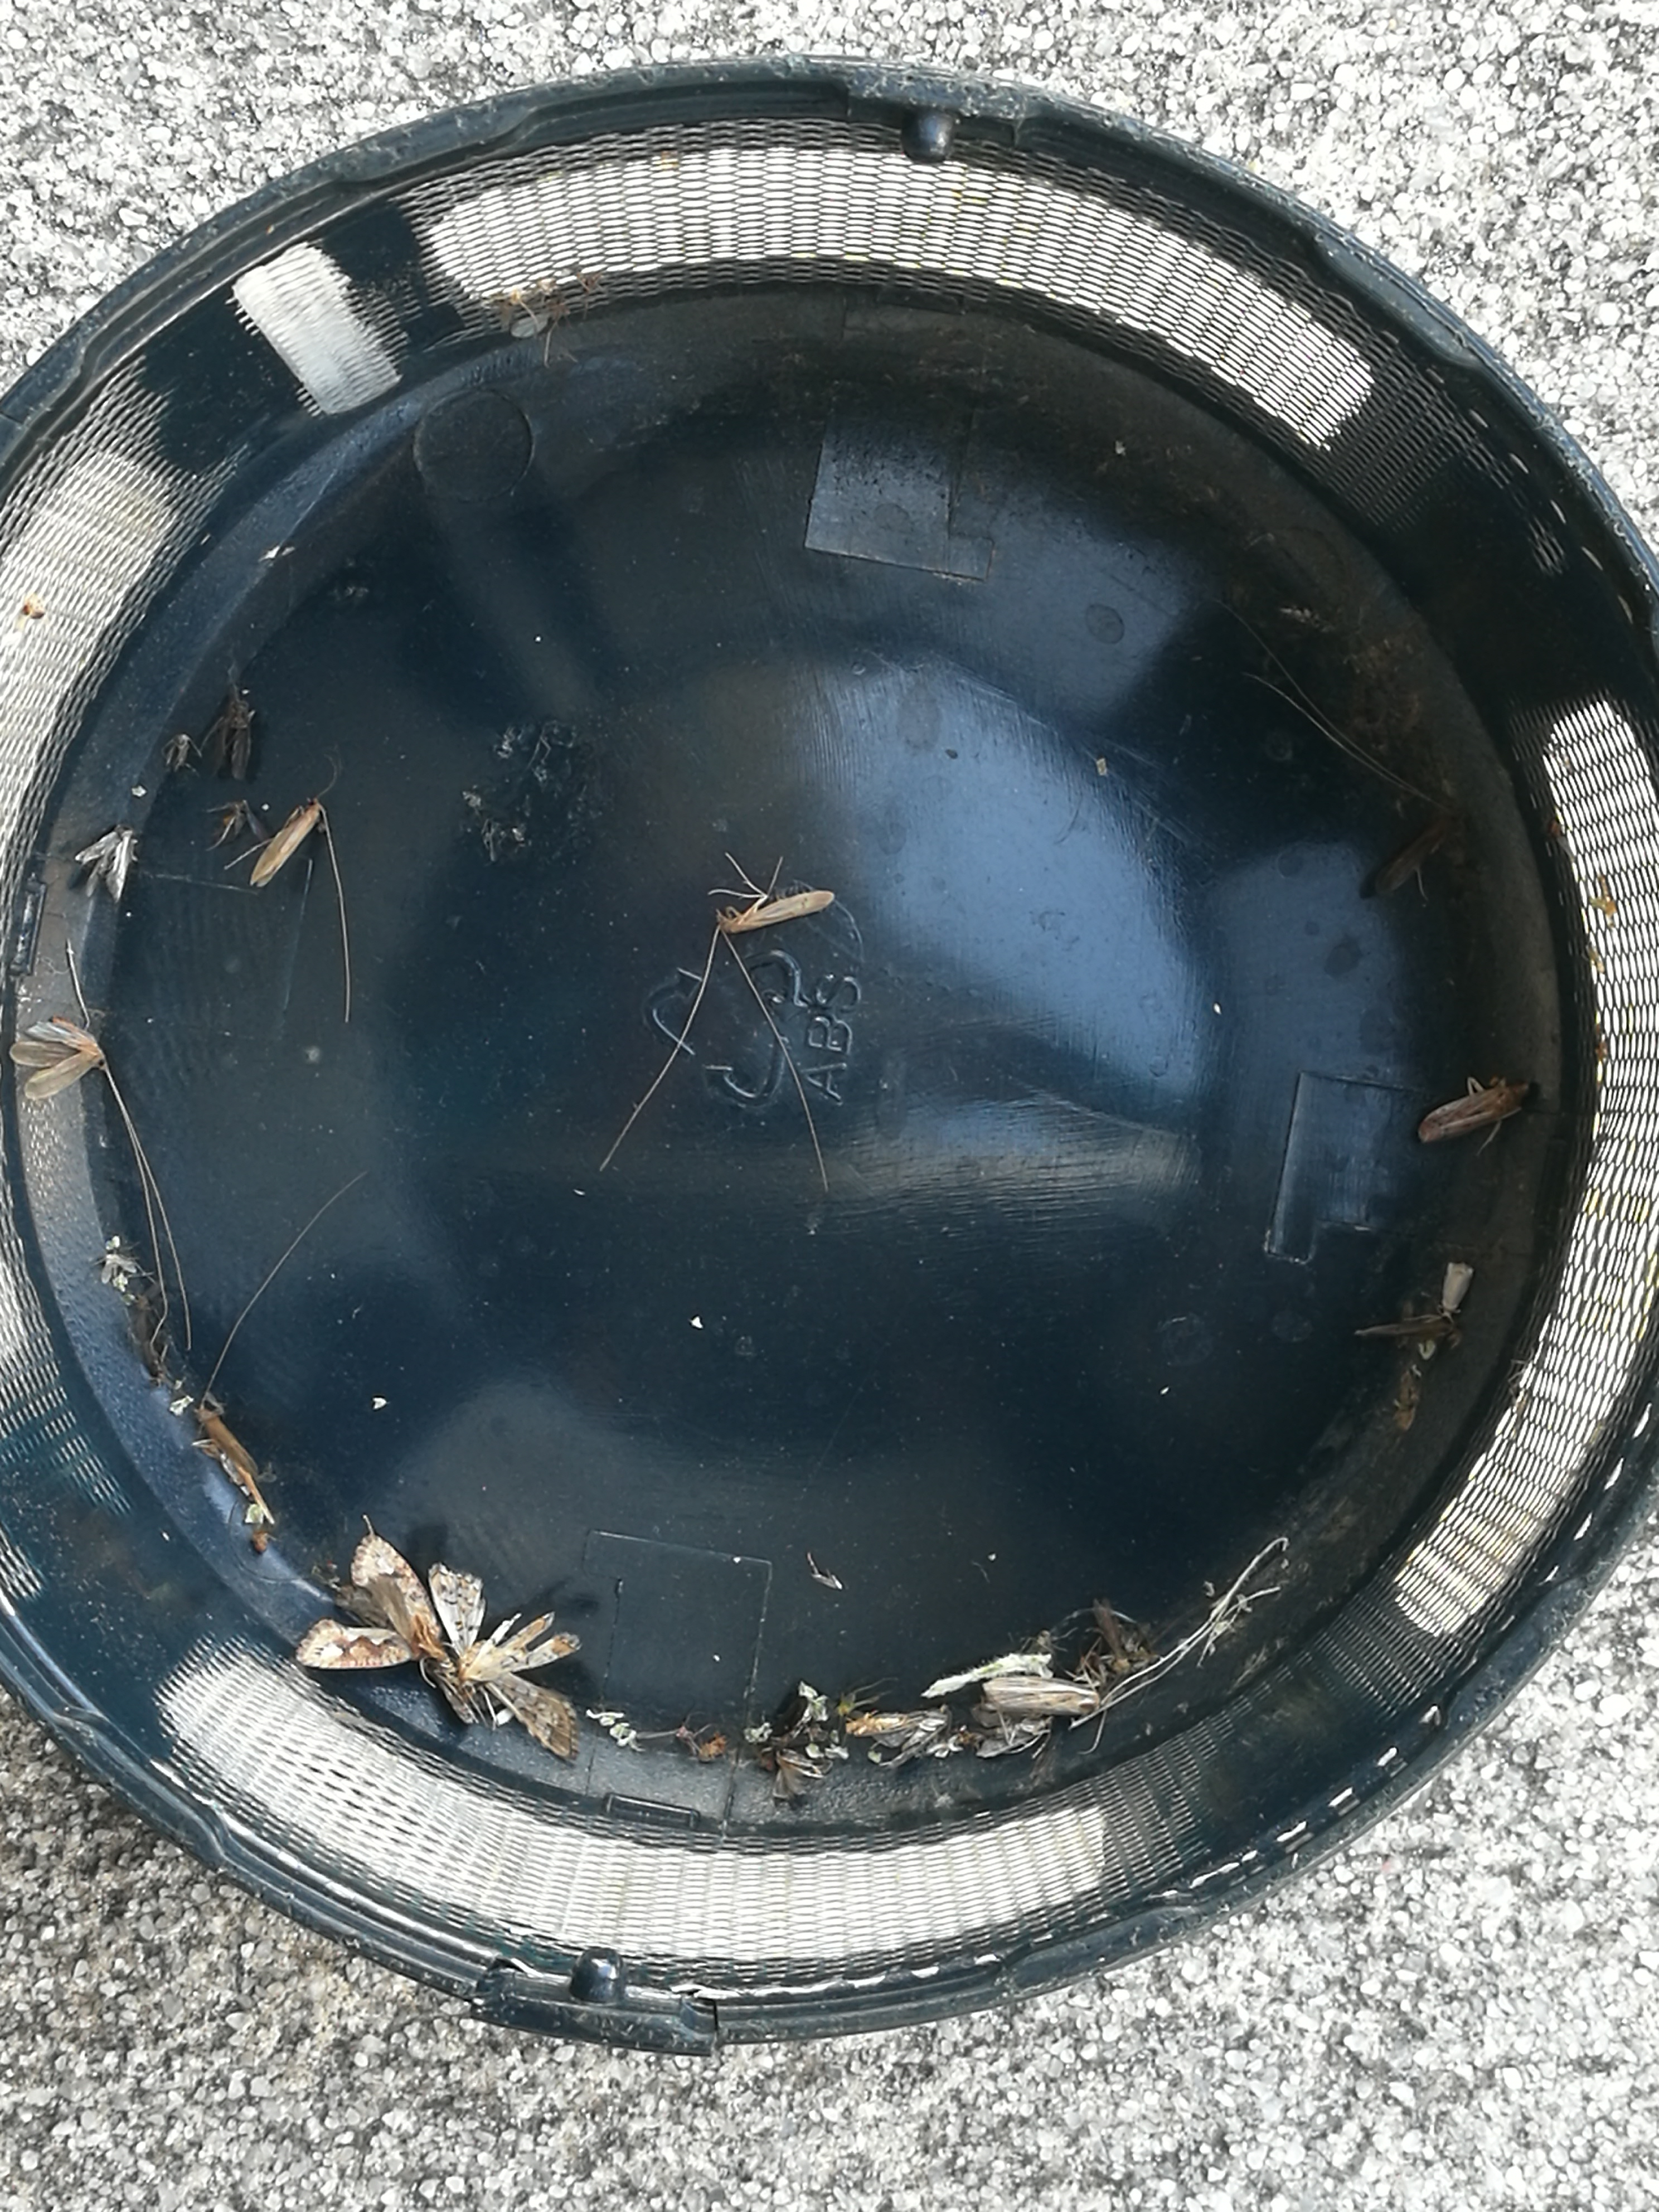mosquito: (1417, 1080, 1537, 1141), (1375, 810, 1460, 890), (253, 798, 321, 885), (716, 890, 835, 934), (190, 1406, 260, 1477), (983, 1677, 1100, 1712), (1443, 1264, 1473, 1315), (845, 1716, 906, 1737)
moth: (429, 1561, 577, 1759), (298, 1534, 437, 1667), (7, 1019, 106, 1101), (77, 820, 131, 900), (214, 700, 249, 780)
